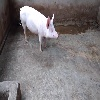heo: (18, 4, 60, 55)
